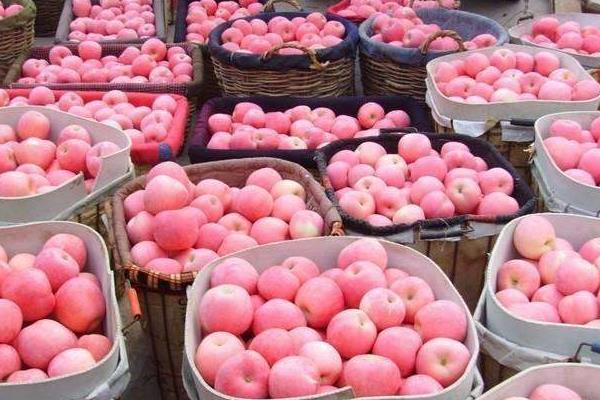apple: (17, 319, 79, 369), (53, 278, 106, 334), (216, 347, 271, 399), (193, 330, 245, 385), (198, 284, 254, 335), (2, 267, 54, 320), (371, 325, 423, 377), (414, 337, 469, 386), (295, 275, 344, 328), (343, 352, 401, 396), (328, 309, 378, 357), (386, 273, 434, 323), (411, 300, 468, 342), (337, 260, 389, 306), (360, 284, 408, 329), (152, 208, 199, 251), (513, 215, 557, 260), (254, 297, 308, 332), (555, 255, 600, 297), (495, 258, 540, 299), (299, 341, 342, 383), (35, 249, 78, 290), (141, 175, 188, 212), (14, 136, 56, 173), (556, 291, 599, 324), (235, 184, 273, 220), (85, 142, 120, 177), (447, 178, 481, 212), (55, 138, 89, 172), (288, 208, 325, 239), (337, 190, 375, 220), (282, 255, 320, 283), (373, 186, 406, 218), (420, 189, 455, 219), (16, 113, 51, 140), (193, 193, 224, 223), (481, 166, 513, 195), (399, 133, 431, 162), (183, 248, 221, 272), (1, 170, 35, 196), (216, 213, 254, 236), (272, 179, 308, 202), (356, 101, 384, 129), (355, 142, 387, 166), (352, 174, 388, 195), (442, 150, 479, 170), (446, 76, 475, 100), (490, 47, 517, 71), (380, 18, 405, 42), (519, 72, 544, 95), (141, 39, 167, 61), (546, 68, 577, 85), (274, 20, 297, 42), (254, 128, 278, 149), (77, 40, 101, 60), (60, 92, 85, 111), (48, 44, 71, 64), (102, 90, 128, 107), (143, 125, 166, 144), (278, 136, 308, 150), (402, 29, 424, 47), (322, 20, 345, 37), (23, 58, 43, 76), (221, 28, 242, 44), (301, 32, 320, 46)
